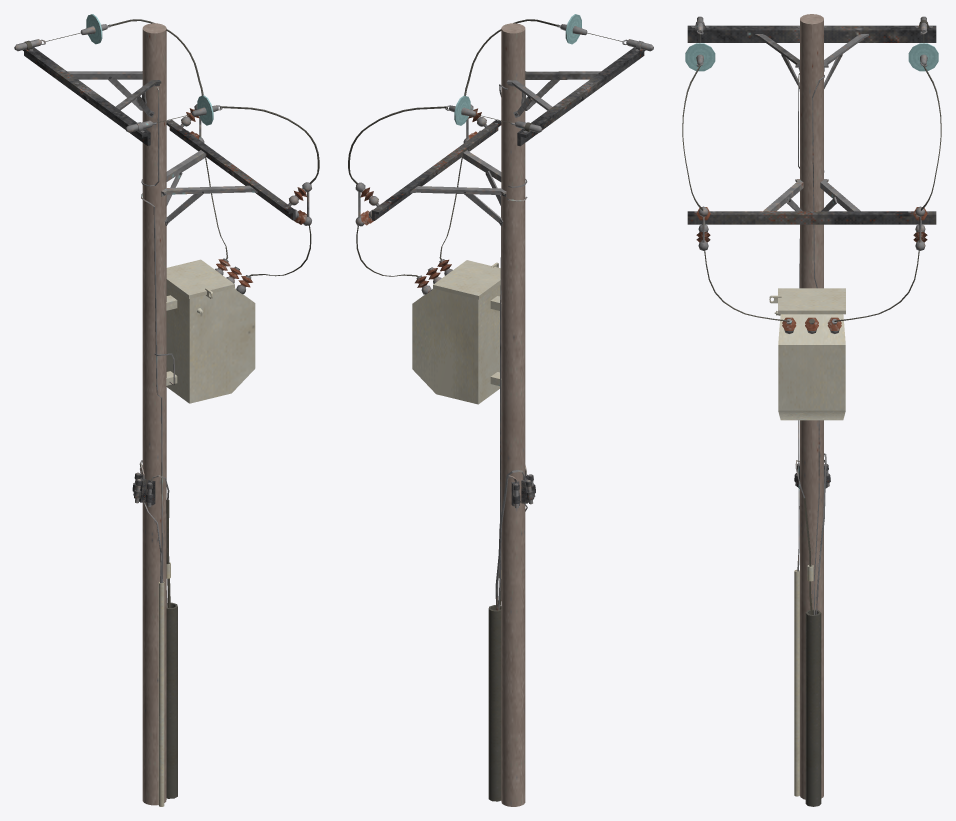
Rendered from SM_PRP_Pylon_A_01.fbx.
3 renders of one model, left to right at view 1: azimuth 30°, elevation 25°; view 2: azimuth 150°, elevation 25°; view 3: azimuth 270°, elevation 25°, orthographic.
Visible parts, largest first — view 1: Pole, Large_Box, Metal-Bar-Low, PVC-Pipe_Thick, Metal-Bar_Top-Bar, Pole_Wires, PVC-Pipe-Skinny, Cylinder009, Metal-Bar_Top, Lower-Pole_Dohickeys, Wires_T, Low-Triple-Connectors; view 2: Pole, Large_Box, Metal-Bar-Low, PVC-Pipe_Thick, Metal-Bar_Top-Bar, Cylinder009, Pole_Wires, Metal-Bar_Top, Lower-Pole_Dohickeys, Wires_T, Low-Triple-Connectors; view 3: Pole, Large_Box, Metal-Bar-Low, Metal-Bar_Top-Bar, PVC-Pipe_Thick, Pole_Wires, Cylinder009, PVC-Pipe-Skinny, Metal-Bar_Top, Lower-Pole_Dohickeys, Wires_T, Transformer-Box_Dohickeys.
Boxes of the visible parts, x1,y1,x2,y2 form: Pole: (142,23,166,805); Large_Box: (166,259,255,403); Metal-Bar-Low: (161,120,295,225); PVC-Pipe_Thick: (166,602,177,798); Metal-Bar_Top-Bar: (22,47,150,145); Pole_Wires: (139,87,175,608); PVC-Pipe-Skinny: (158,581,164,806); Cylinder009: (14,14,222,132); Metal-Bar_Top: (67,71,161,117); Lower-Pole_Dohickeys: (180,104,311,225); Wires_T: (108,19,319,184); Low-Triple-Connectors: (132,472,155,506); Pole: (501,23,525,806); Large_Box: (412,260,501,404); Metal-Bar-Low: (372,120,506,226); PVC-Pipe_Thick: (488,605,501,801); Metal-Bar_Top-Bar: (517,47,645,146); Cylinder009: (445,14,653,132); Pole_Wires: (495,84,527,610); Metal-Bar_Top: (506,71,600,117); Lower-Pole_Dohickeys: (355,104,487,226); Wires_T: (348,19,559,184); Low-Triple-Connectors: (511,474,535,508); Pole: (800,14,823,799); Large_Box: (778,288,845,420); Metal-Bar-Low: (687,179,936,224); Metal-Bar_Top-Bar: (687,25,936,42); PVC-Pipe_Thick: (805,609,821,806); Pole_Wires: (795,73,826,614); Cylinder009: (685,16,938,71); PVC-Pipe-Skinny: (794,569,799,796); Metal-Bar_Top: (755,34,868,88); Lower-Pole_Dohickeys: (696,206,927,250); Wires_T: (682,64,941,210); Transformer-Box_Dohickeys: (782,317,841,333).
Size of the model in its own units: 321 by 378 by 1248.
